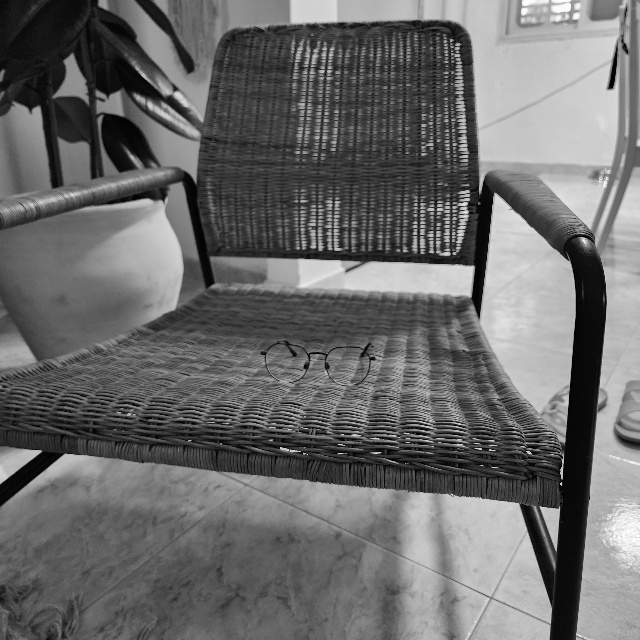glasses: (261, 337, 382, 386)
